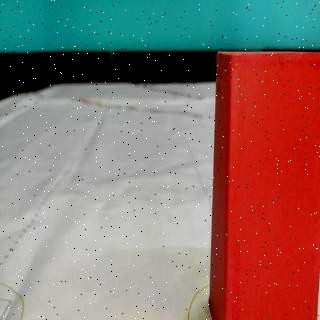redbox: (208, 49, 320, 320)
